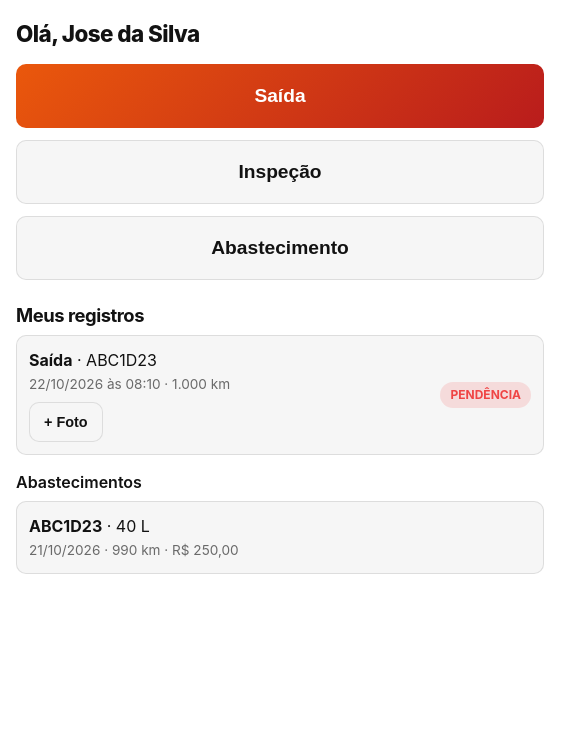
Scenario: RN-F10.01 — Voltar no topo do formulario do portal › Abastecimento: o Voltar do topo vem antes do primeiro campo e volta ao painel
This screenshot has width=561, height=740.
Click the button "Abastecimento". click: (280, 248)
box: [16,216,544,280]
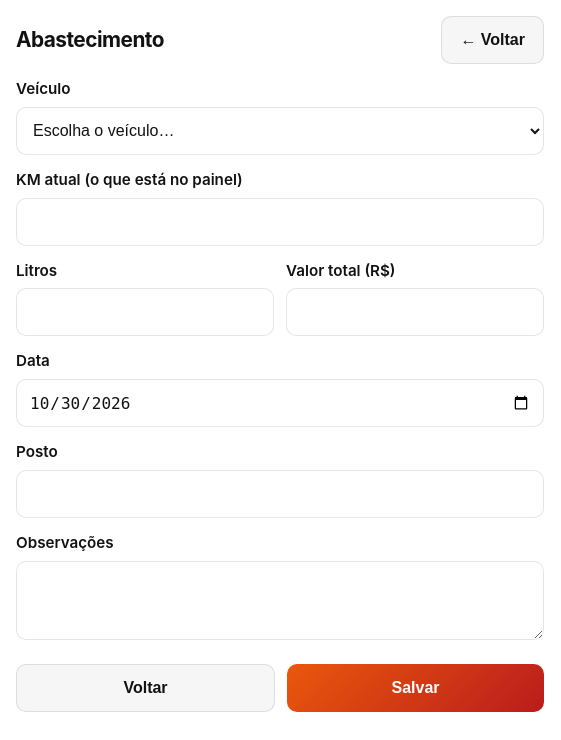
Check: the form is shown
Check: the button with test id "voltar-topo" is shown
Check: the button with test id "voltar-topo" shows "Voltar"
Click the button "← Voltar". click: (493, 40)
box: [441,16,544,64]
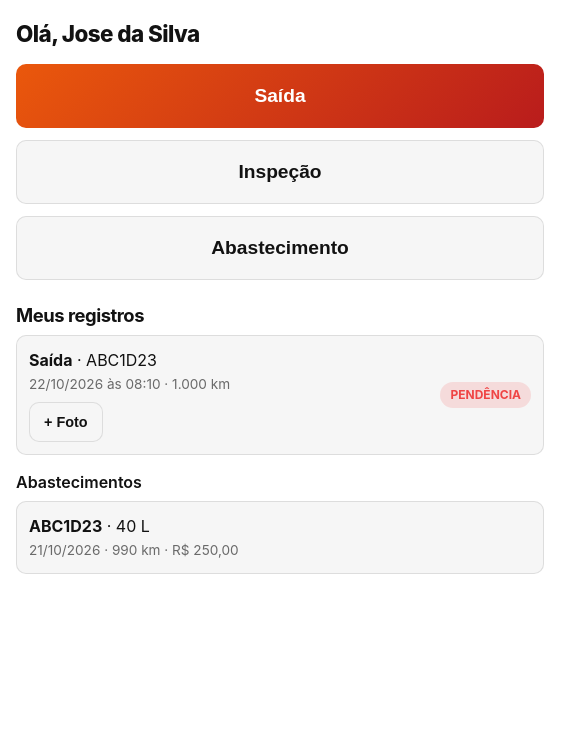
Check: the form is gone
Check: the button "Saída" is shown, box [16,64,544,128]
